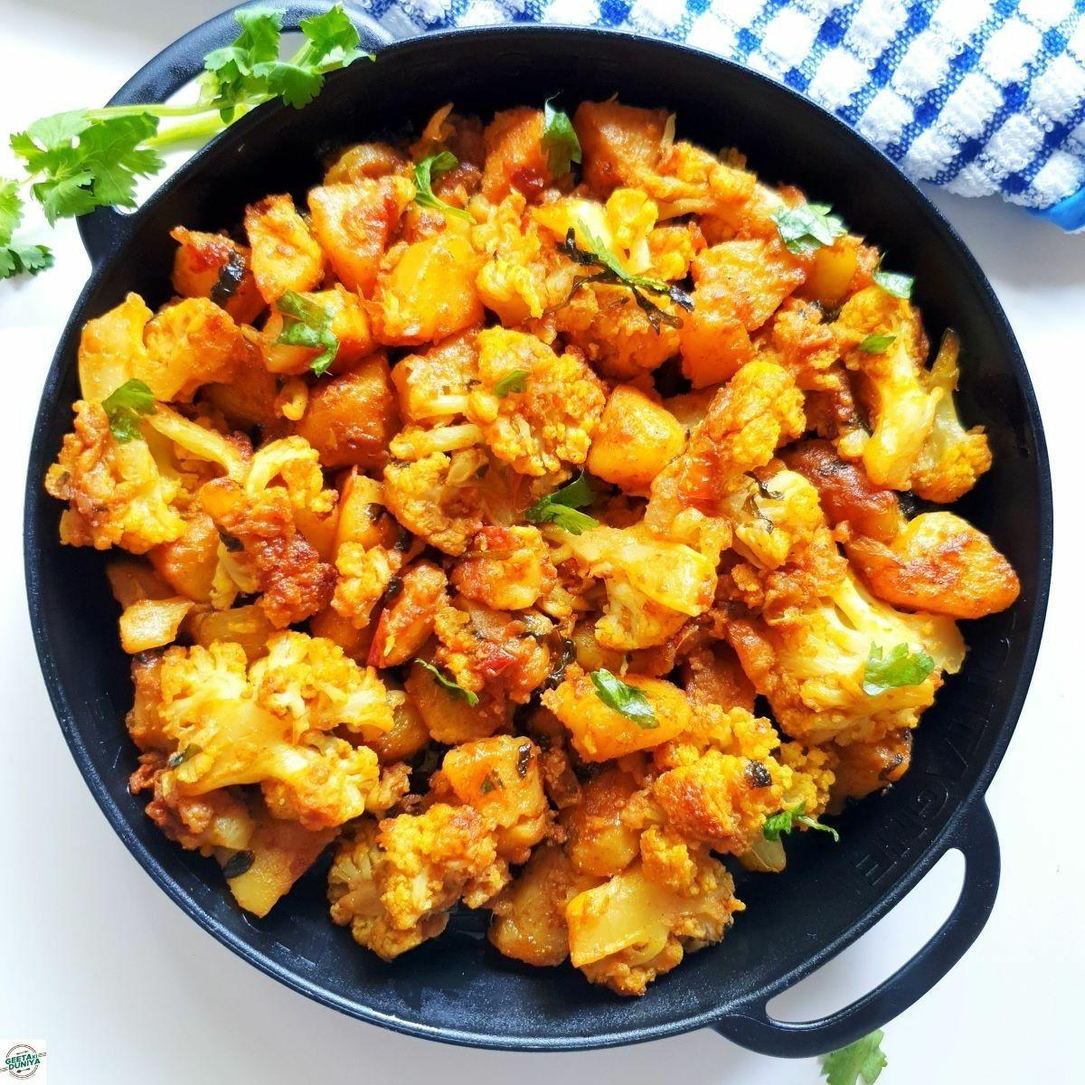AlooGobi: (48, 98, 1021, 995)
